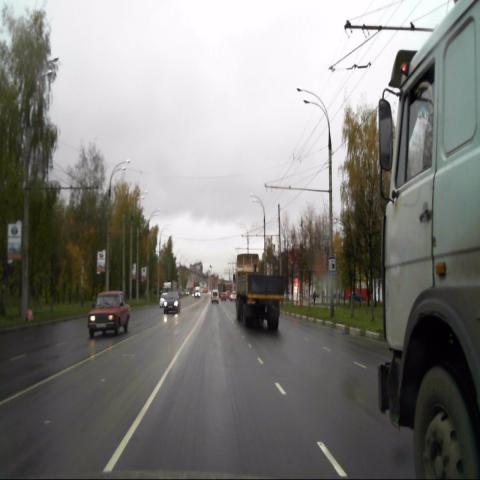7_3: (328, 257, 336, 277)
